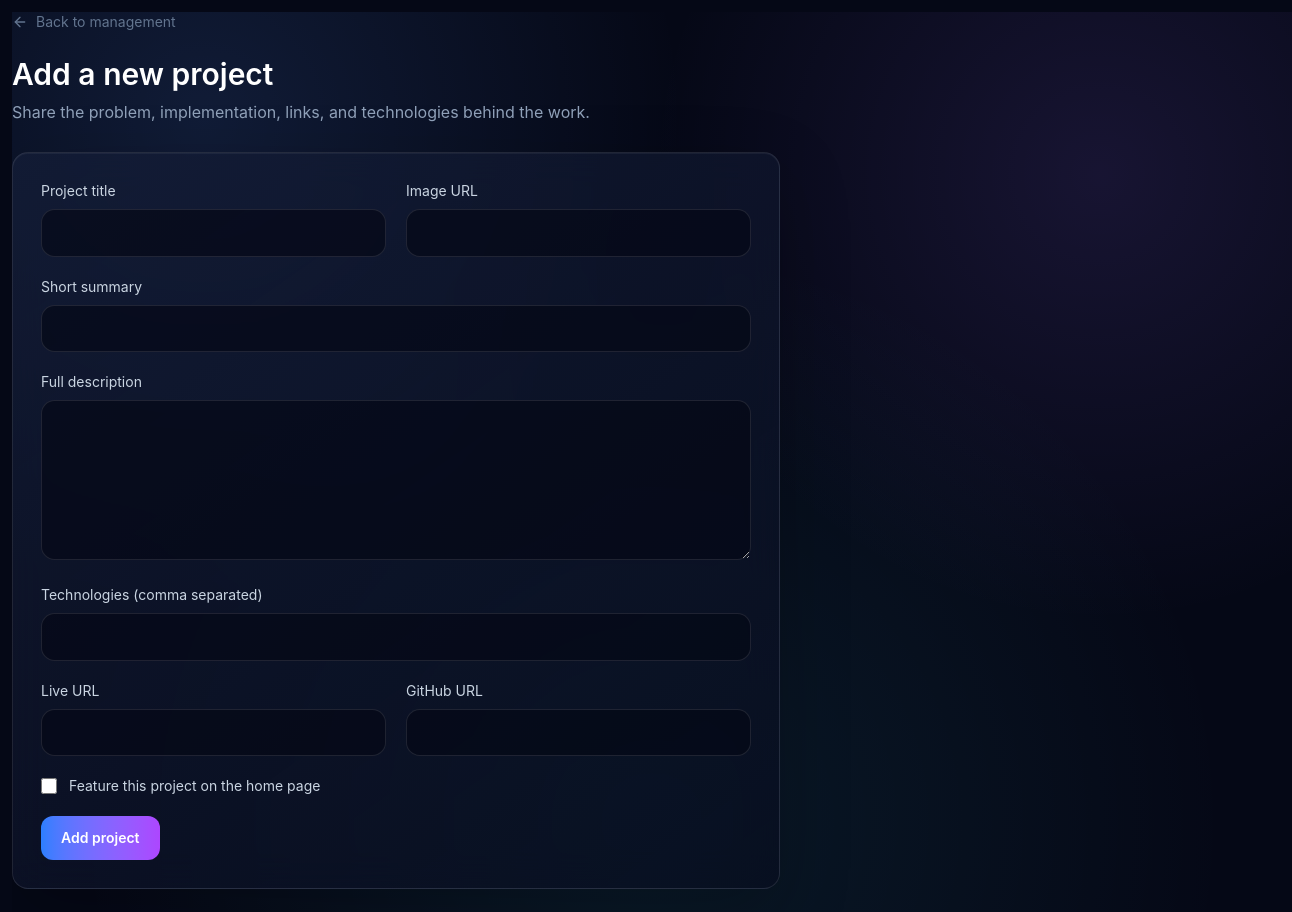
Test case: AddProject › submits normalized project data to the protected API
In the field labelled "Project title": (214, 233) 41,209 -> 386,257, type "Portfolio"
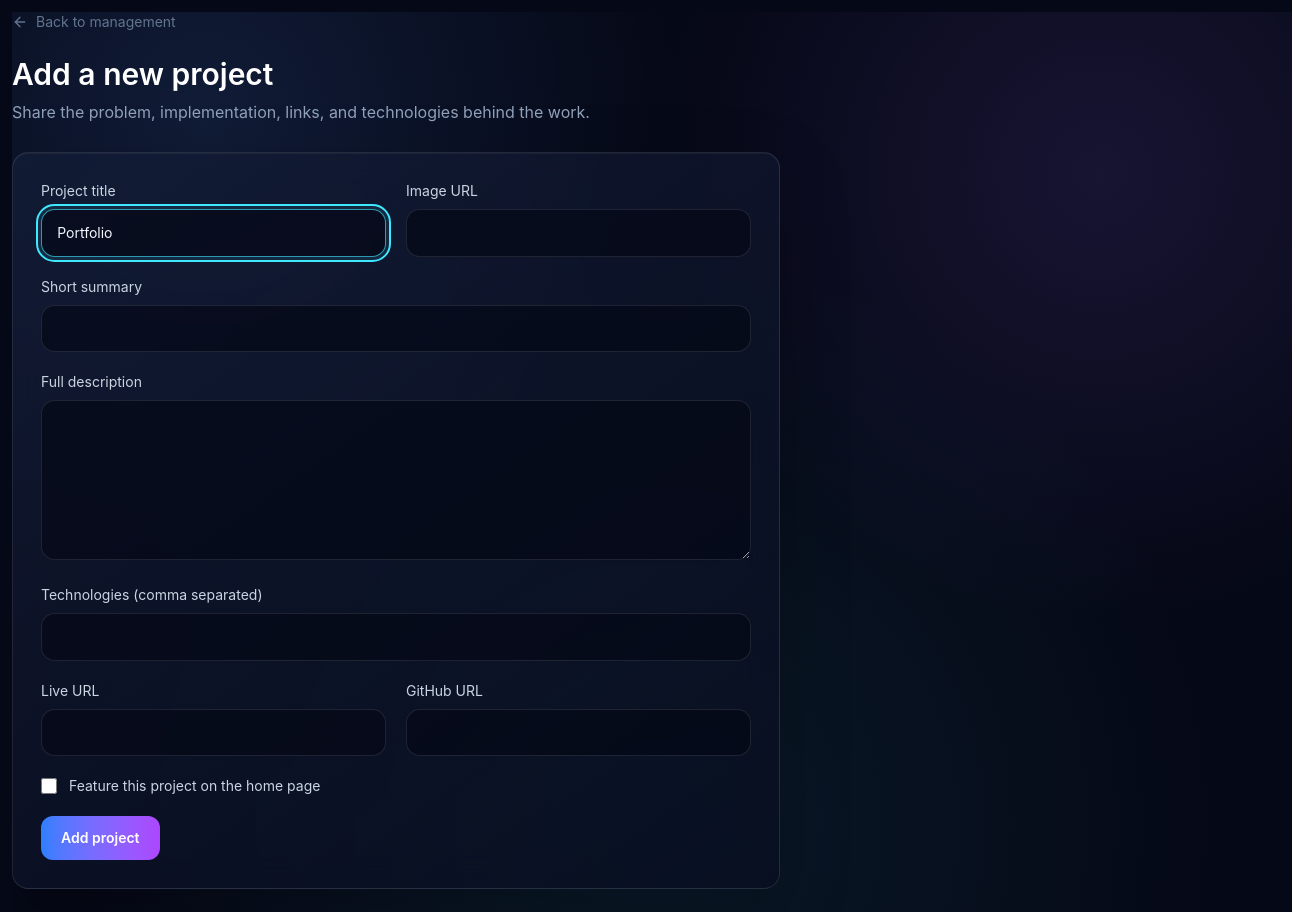
In the field labelled "Short summary": (396, 328) 41,305 -> 751,352, type "A modern portfolio"
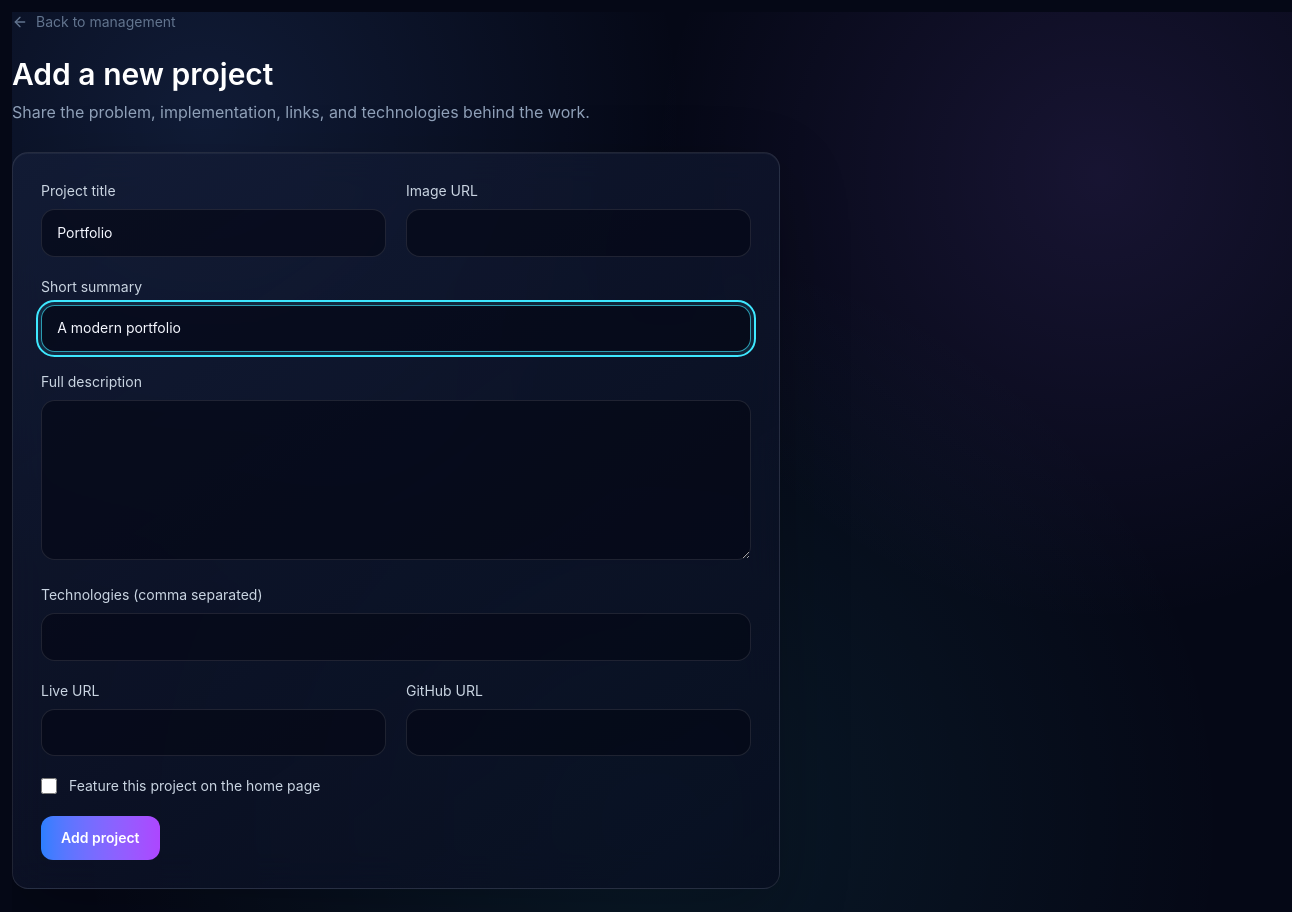
In the text box labelled "Full description": (396, 480) 41,400 -> 751,560, type "Built with React and care."
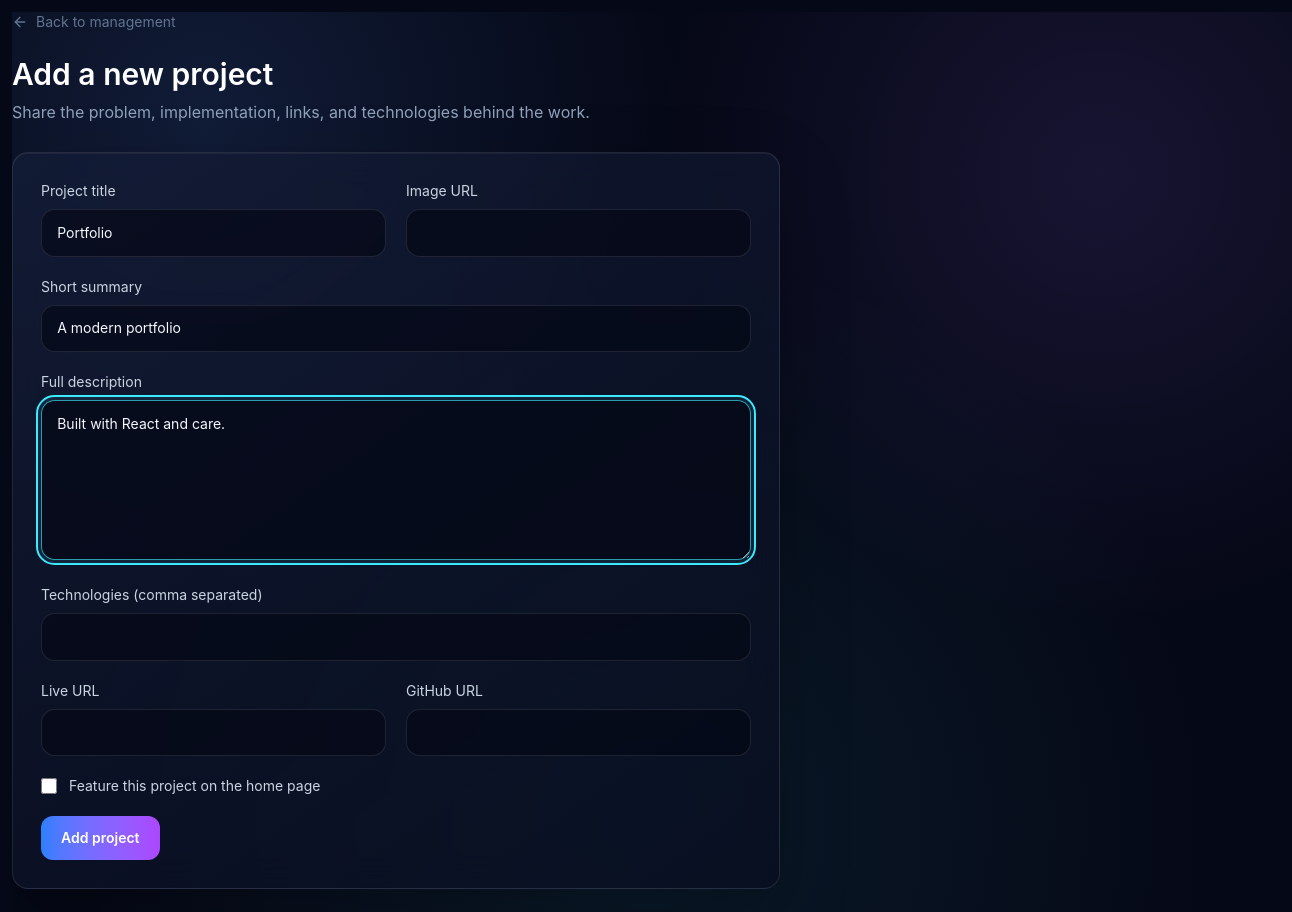
In the field labelled "Technologies (comma separated)": (396, 637) 41,613 -> 751,661, type "React, Node.js"
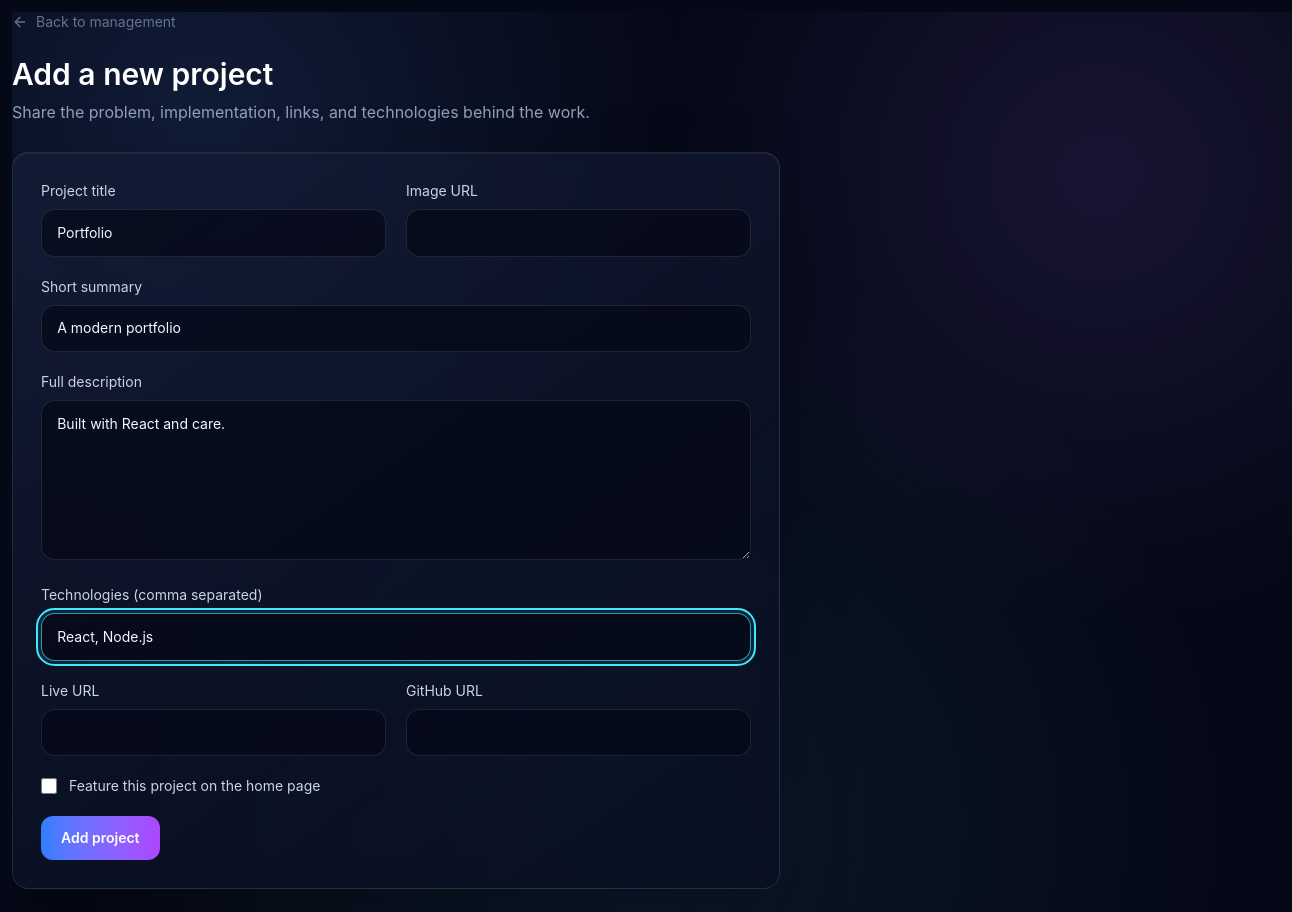
Click the button "Add project": (100, 838) 41,816 -> 160,860
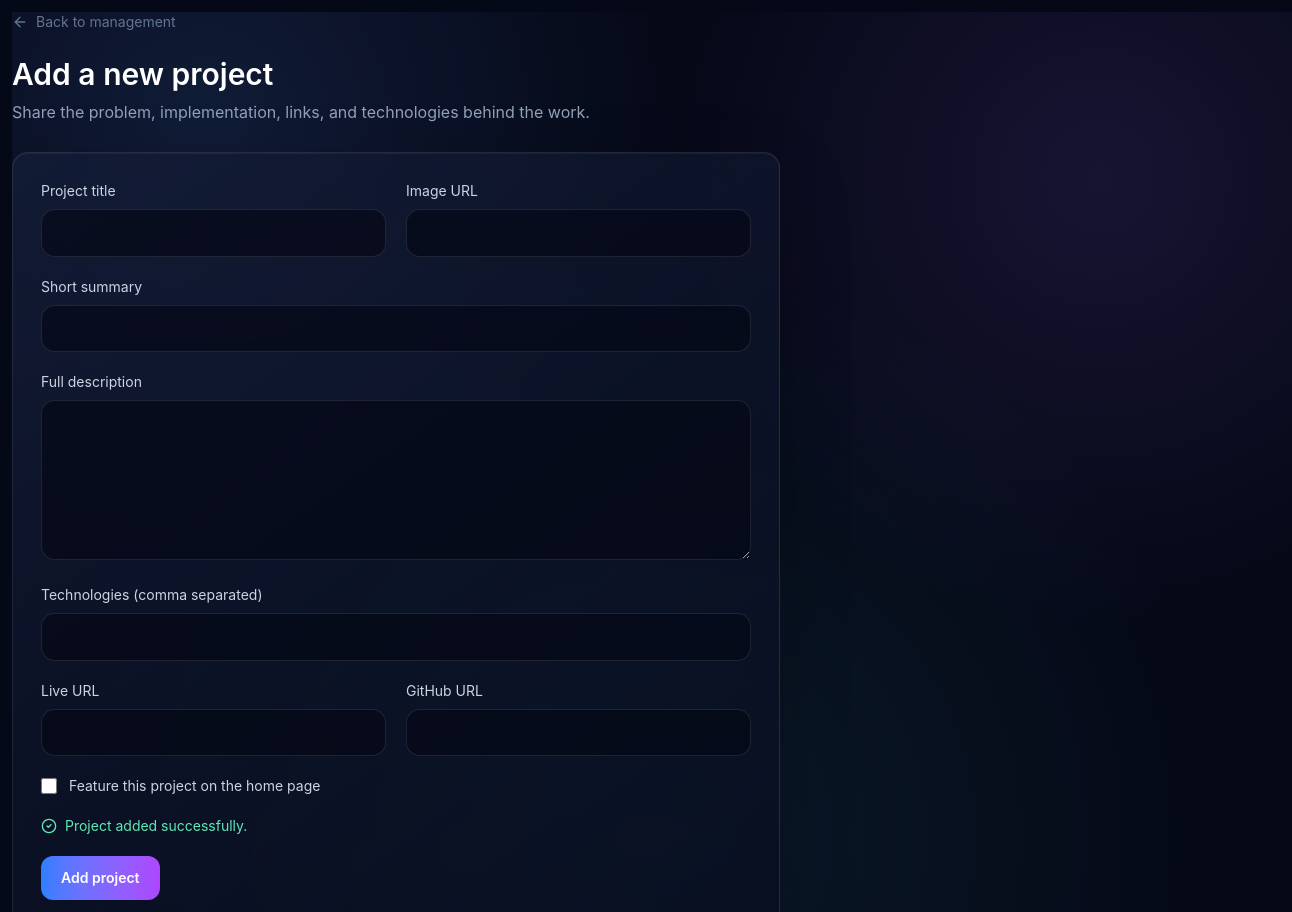
Result: the text "Project added successfully." is shown at 41,817 -> 247,834
